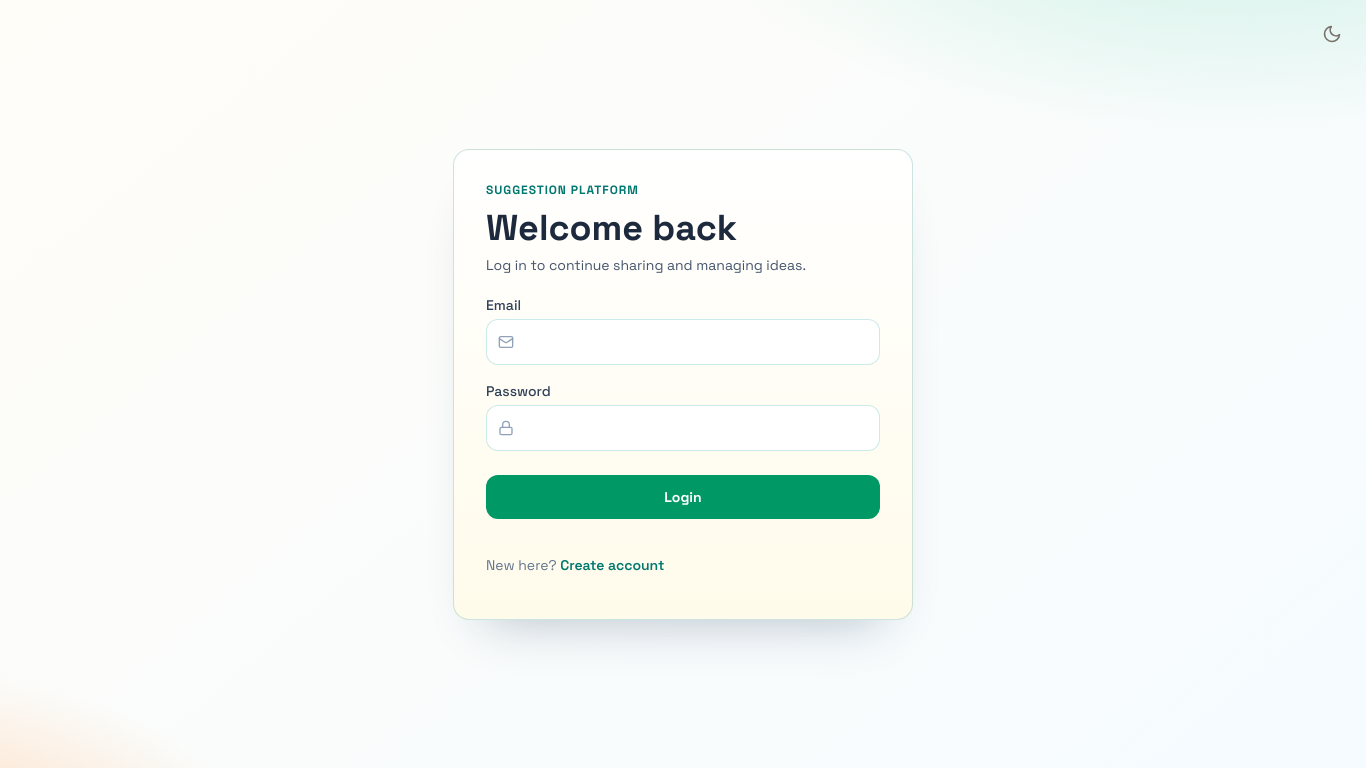
Scenario: Login Component › shows error when submit with empty fields and API returns error
The width and height of the screenshot is (1366, 768).
Click the button "Login": (683, 496) [486,474,880,518]
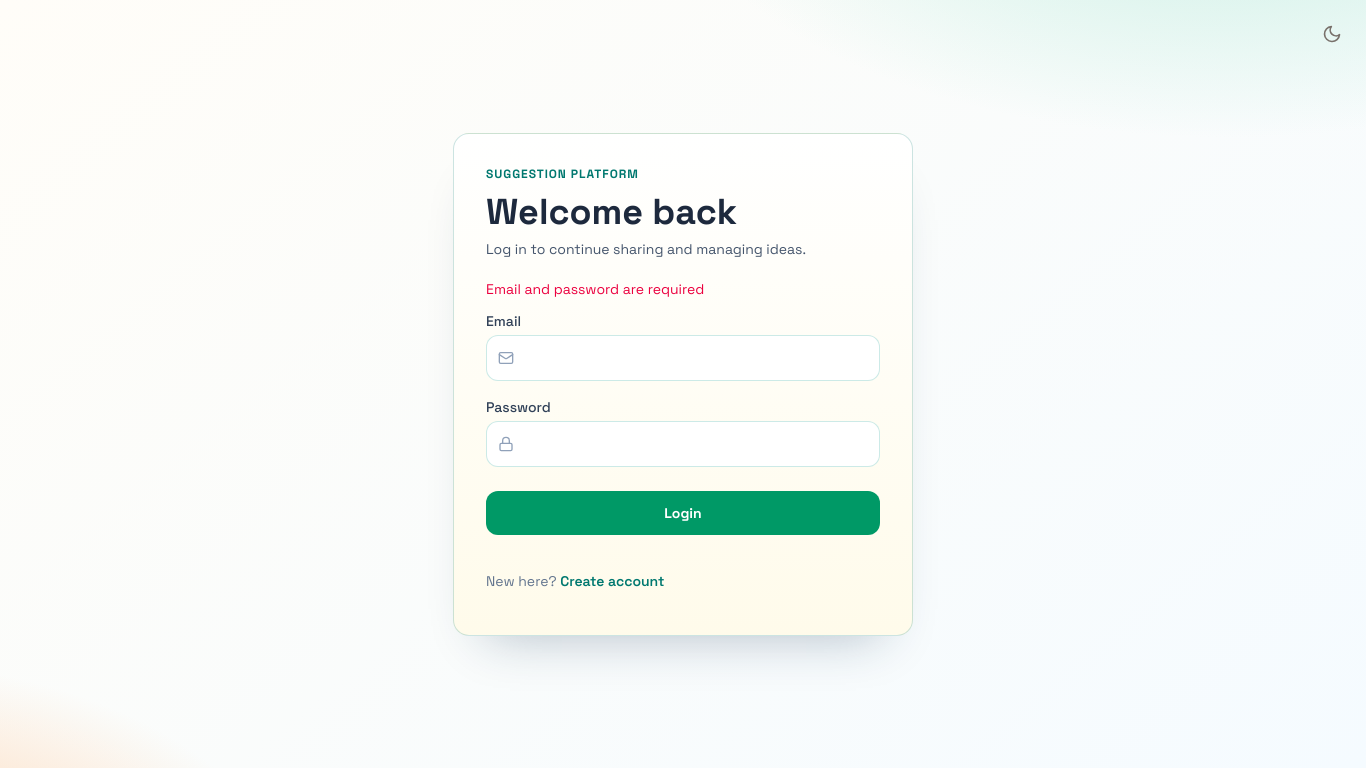
Check: the text "Email and password are required" is shown, box [486,280,704,298]
